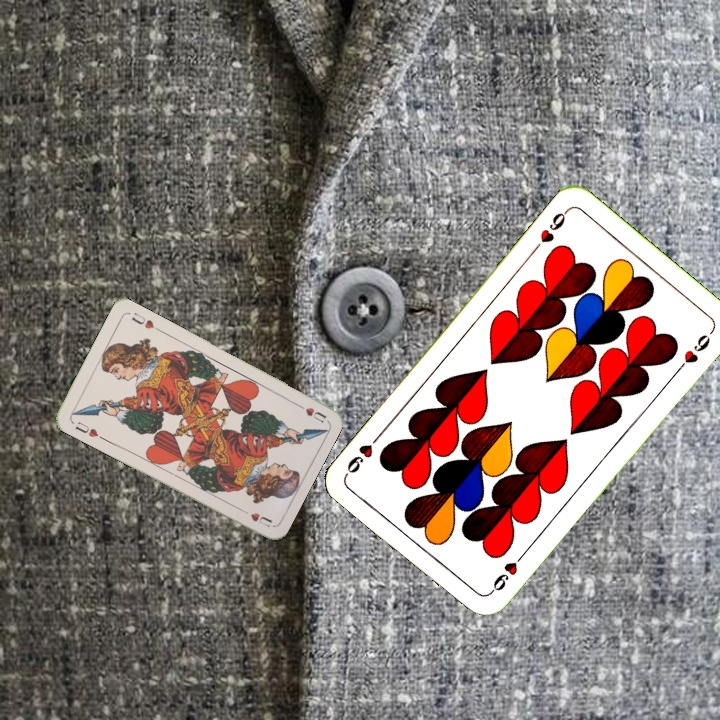H9: (486, 547, 529, 597), (529, 205, 571, 255)
HU: (291, 399, 329, 425), (71, 417, 101, 440)
